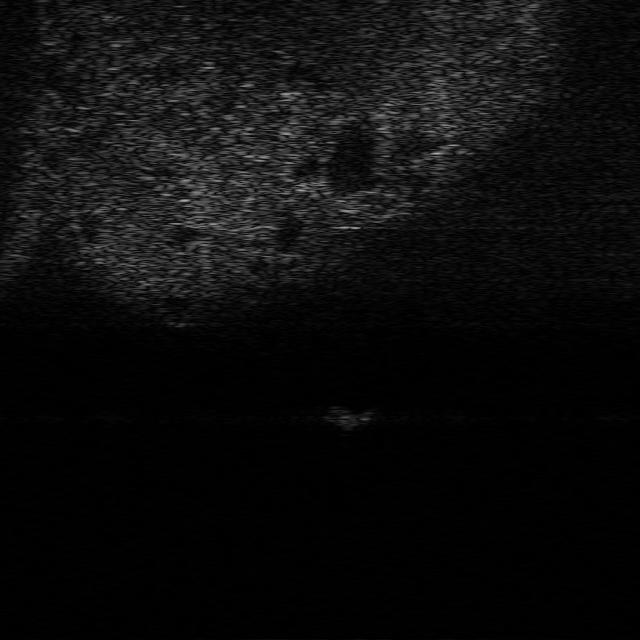cube: (319, 403, 379, 430)
